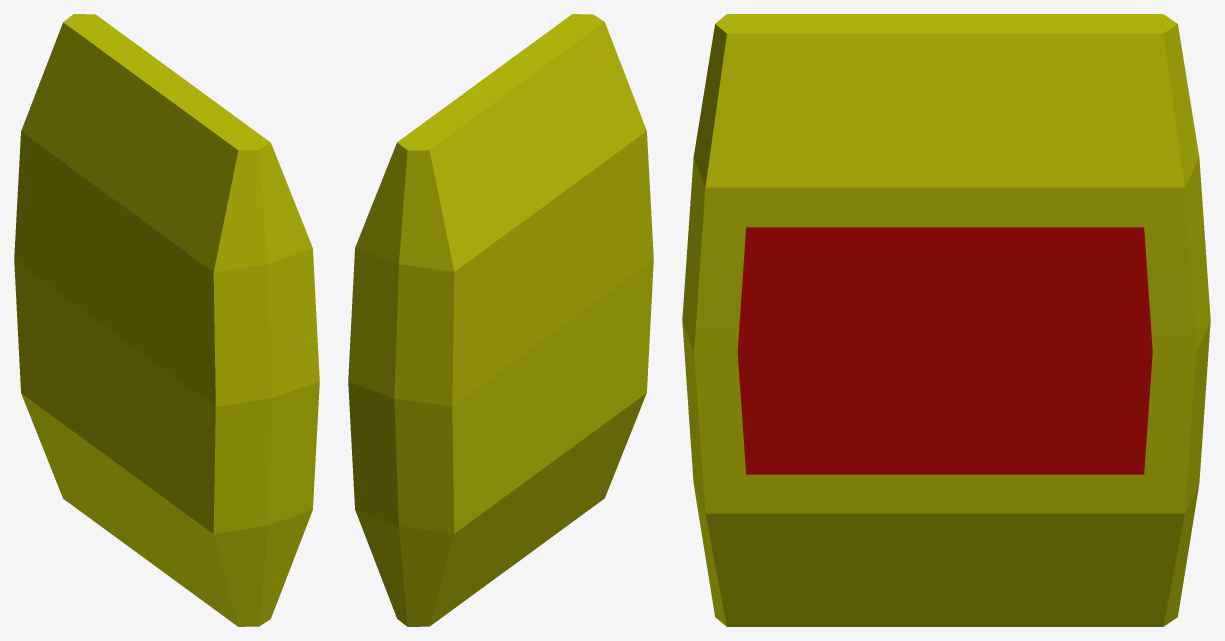
The model's file is ChipBag.fbx.
3 views of the same model, side by side, from view 1: azimuth 30°, elevation 25°; view 2: azimuth 150°, elevation 25°; view 3: azimuth 270°, elevation 25° (orthographic). The views are drawn at different scales.
Visible parts, largest first — view 1: chipbag; view 2: chipbag; view 3: chipbag.
Boxes of the visible parts, bbox=[...] form: chipbag: bbox=[14, 14, 319, 626]; chipbag: bbox=[348, 14, 653, 626]; chipbag: bbox=[682, 14, 1210, 626].
Bounding box in the file's own units: 9.45 × 41.38 × 33.41.
